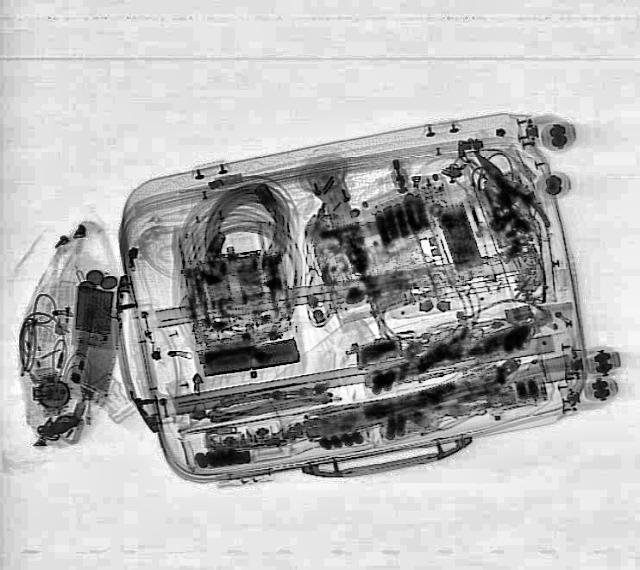Pliers: (456, 141, 556, 241)
